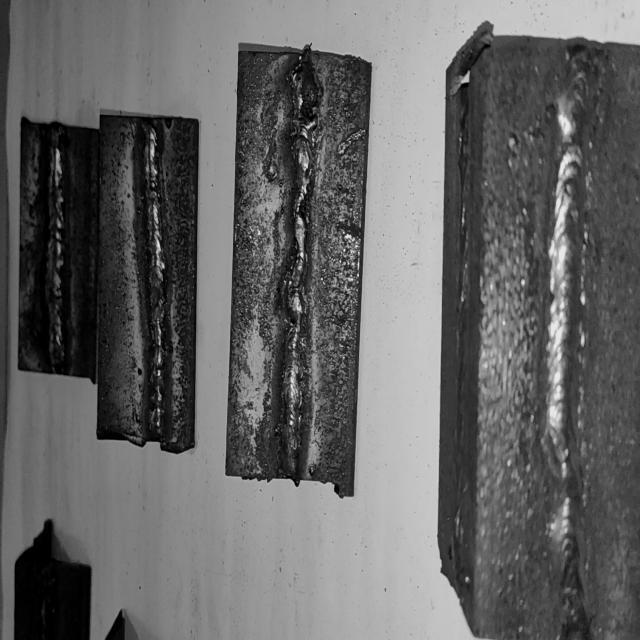Welding Line: (546, 57, 598, 638), (276, 51, 320, 474), (143, 124, 167, 436), (46, 140, 68, 372)
Workpiece: (432, 18, 640, 640), (223, 40, 376, 488), (96, 110, 203, 448), (16, 120, 102, 380)
